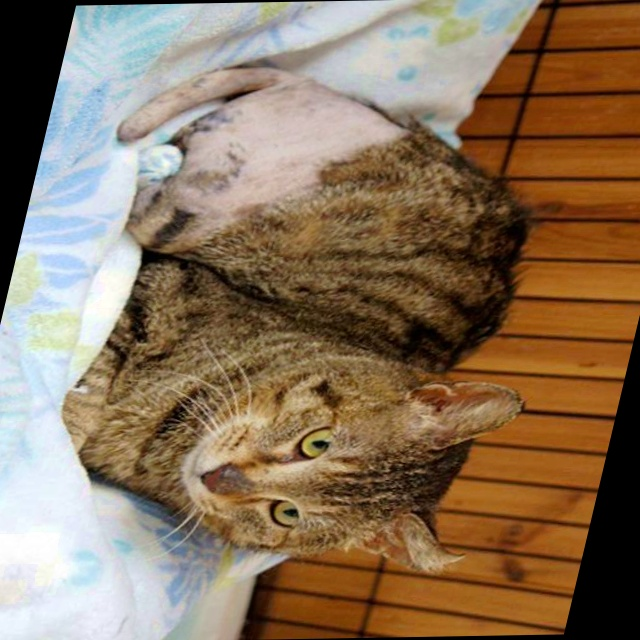hairloss: (150, 82, 408, 214)
